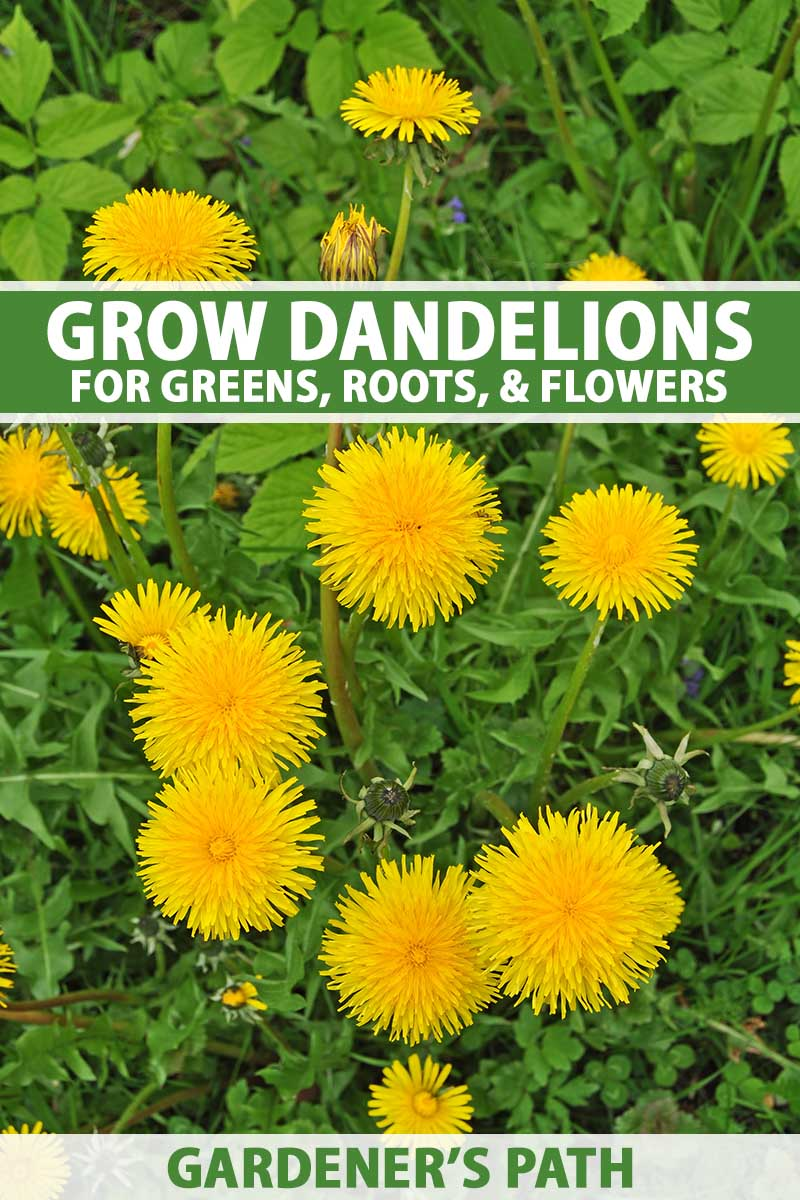begonvil: (458, 797, 696, 1037), (301, 424, 523, 648), (115, 774, 336, 954), (328, 844, 515, 1056), (538, 471, 717, 637), (155, 621, 331, 789), (65, 154, 269, 290), (345, 54, 501, 152), (0, 427, 93, 573), (351, 1054, 491, 1130), (98, 571, 210, 658), (691, 421, 800, 490), (308, 207, 408, 282)
